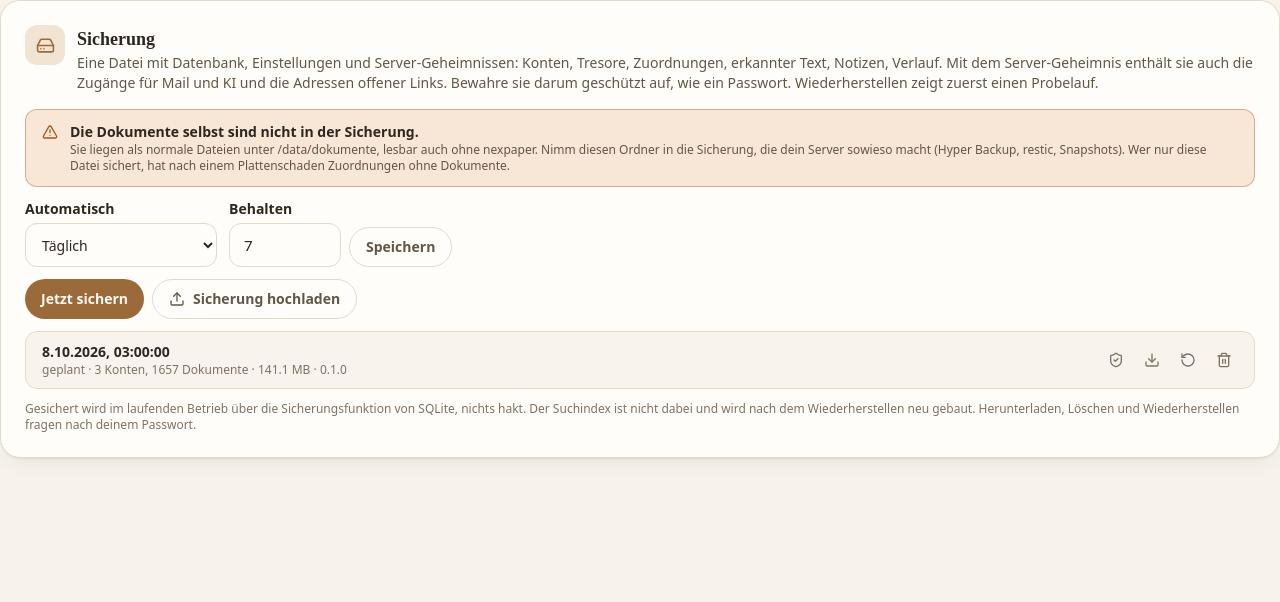
Scenario: the trial run before a restore › says all files are there when none is missing or changed
Click the button named "Prüfen" at point(1116, 360), box 1102,346 -> 1130,374
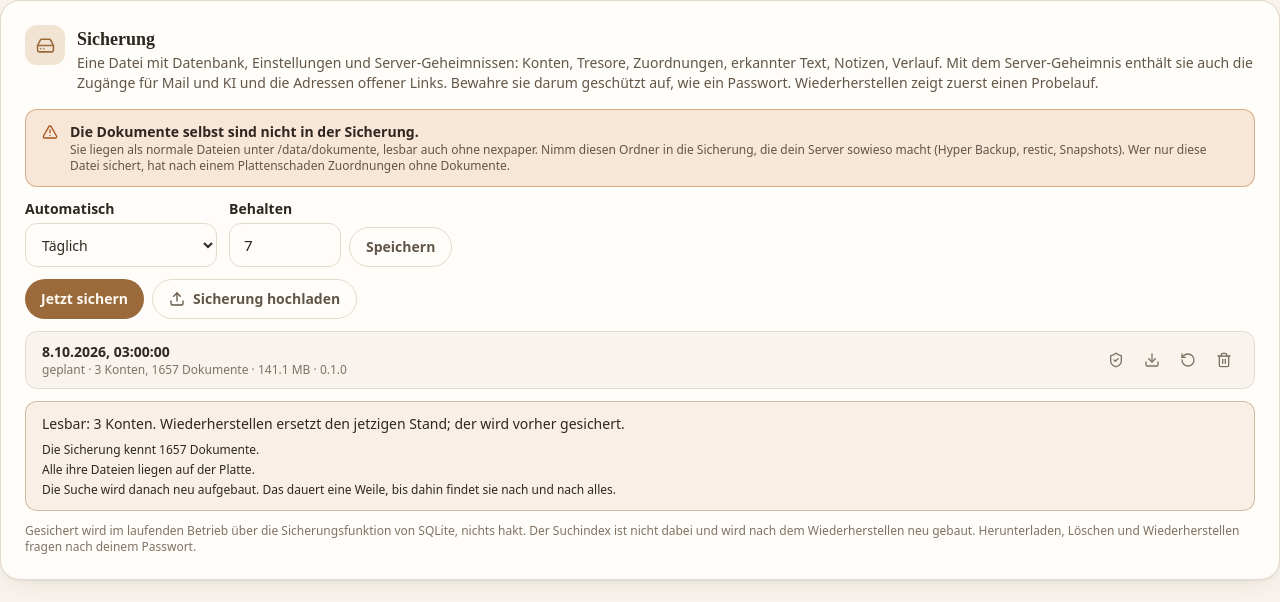
Check: the list with test id "restore-preview" shows "Alle ihre Dateien liegen auf der Platte.", box 42,461 -> 255,478
